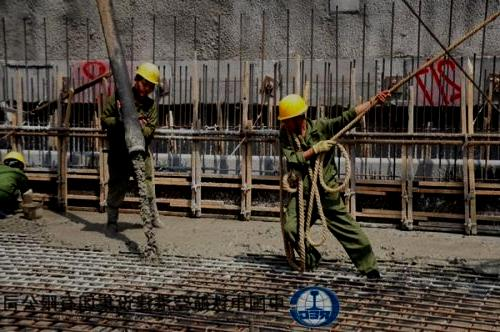person: (274, 93, 369, 277), (92, 62, 171, 235), (1, 148, 32, 222)
